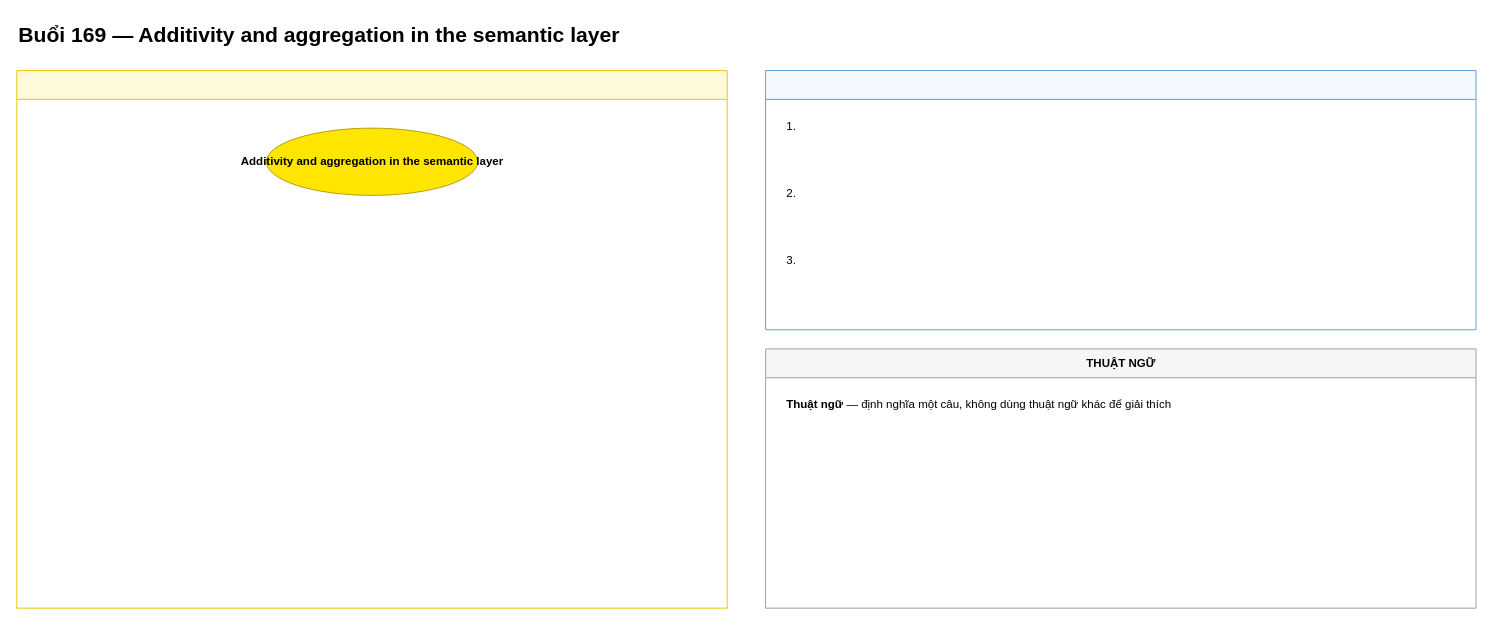
Image size: 1493x625. Some labels were removed from this diagram. The box of each missing label's shape, as (x1, y1, x2, y2) in pixels:
KEY TAKEAWAY — ba điều phải nhớ: (765, 70, 1476, 330)
MINDMAP: (16, 70, 727, 608)
